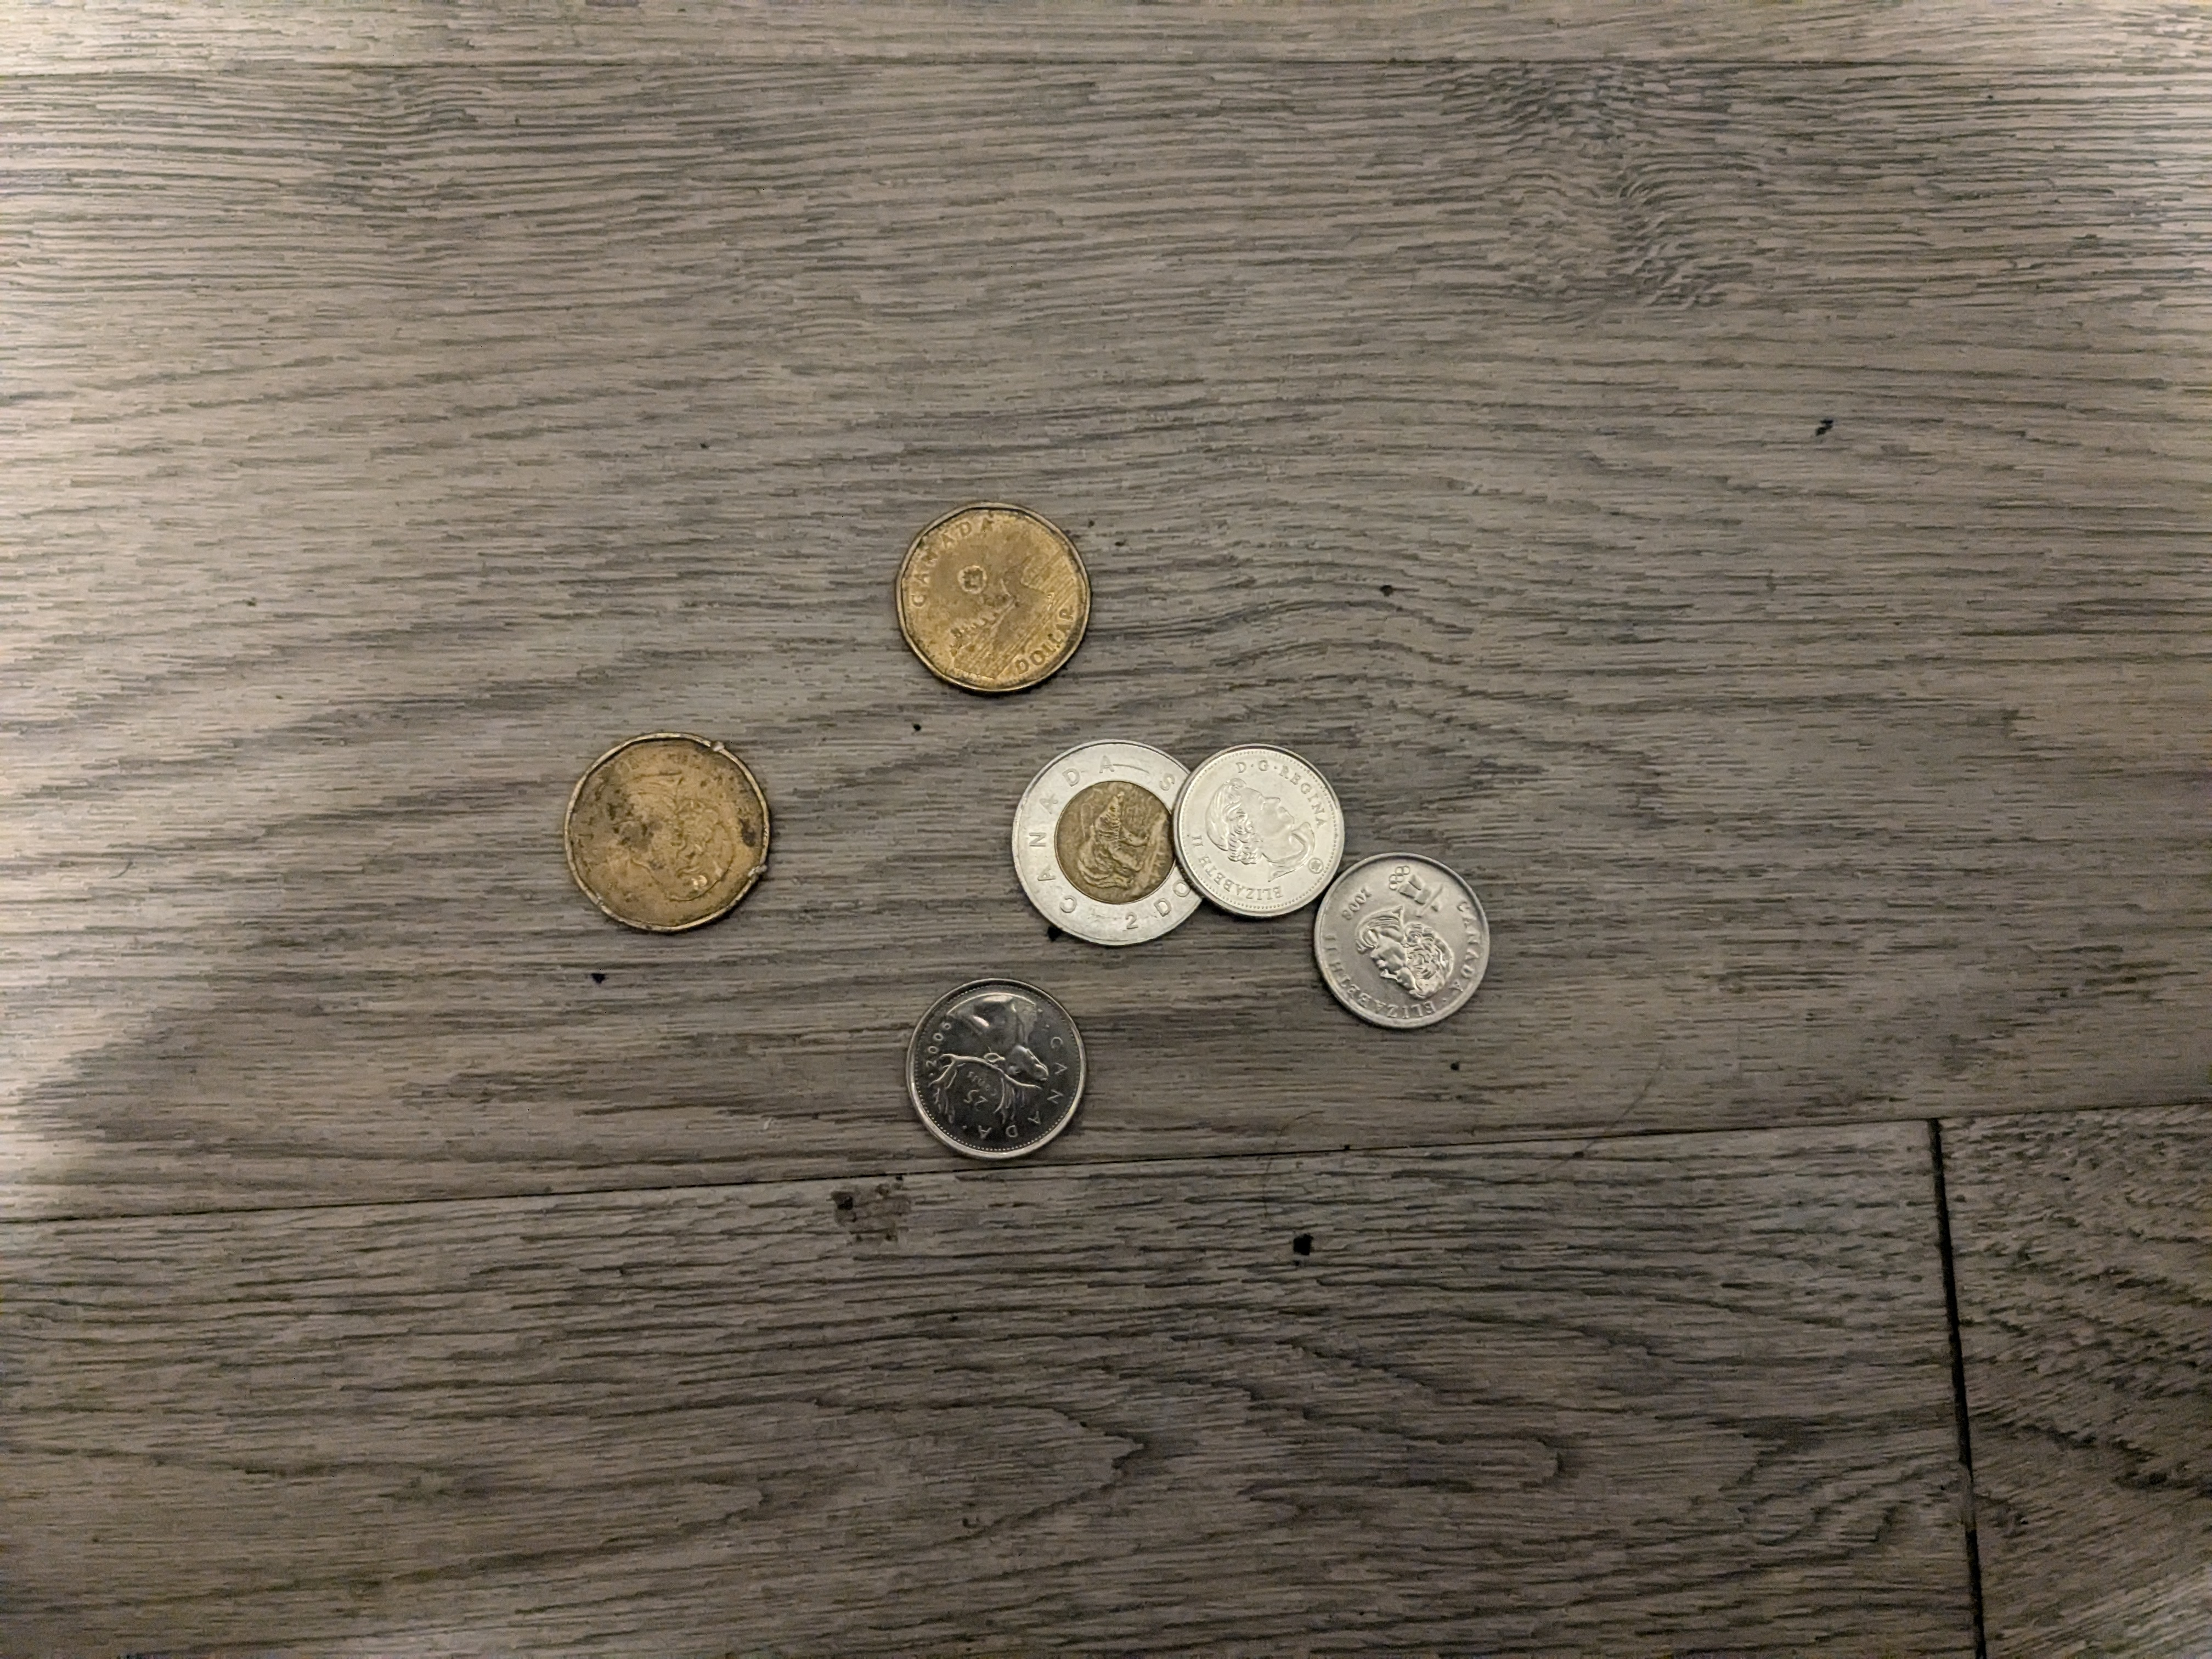loonie: (564, 734, 773, 932), (894, 498, 1092, 694)
quarter: (1317, 850, 1493, 1046), (906, 979, 1092, 1162), (1183, 744, 1348, 915)
toonie: (1010, 735, 1202, 945)
